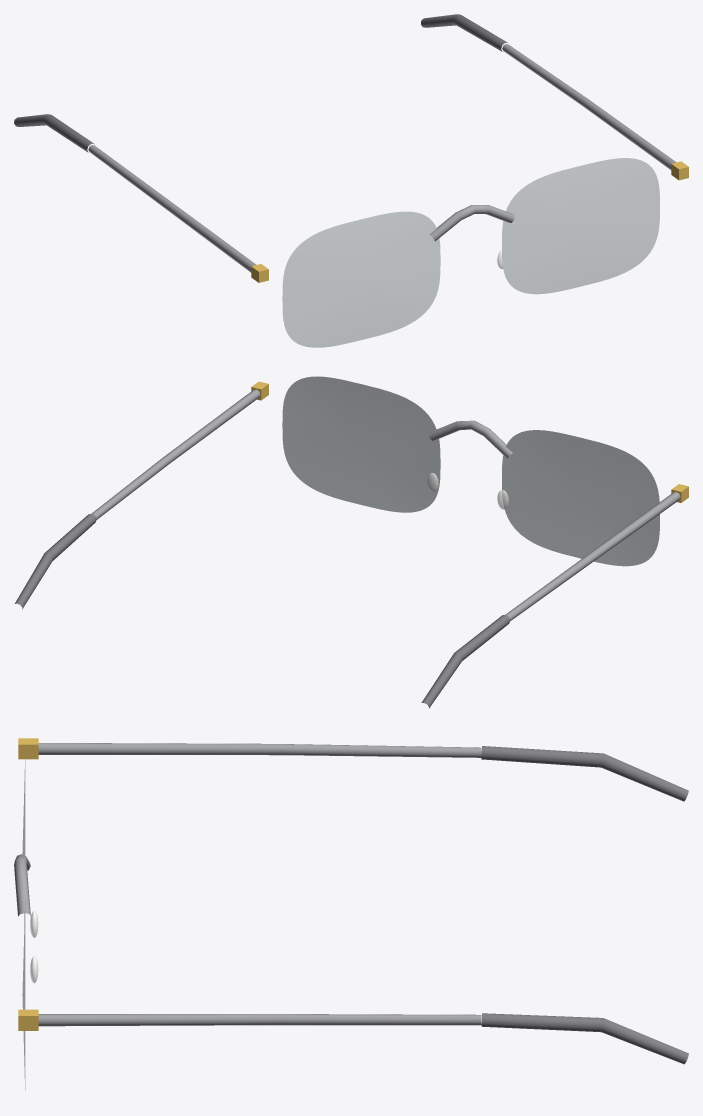
3 renders of one model, top to bottom at view 1: azimuth 30°, elevation 25°; view 2: azimuth 150°, elevation 25°; view 3: azimuth 270°, elevation 25°, orthographic. The views are drawn at different scales.
Parts seen in each view (by area): view 1: Lens_L, Lens_R, Temple_R, Temple_L, TempleTip_R, TempleTip_L, Bridge; view 2: Lens_R, Lens_L, Temple_L, Temple_R, TempleTip_L, TempleTip_R, Bridge; view 3: Temple_R, Temple_L, TempleTip_L, TempleTip_R, Bridge.
Boxes of the visible parts, left/top/right/bottom form: Lens_L: left=282, top=211, right=440, bottom=347; Lens_R: left=502, top=158, right=659, bottom=294; Temple_R: left=502, top=44, right=676, bottom=169; Temple_L: left=88, top=145, right=256, bottom=272; TempleTip_R: left=421, top=14, right=508, bottom=51; TempleTip_L: left=14, top=114, right=94, bottom=152; Bridge: left=430, top=205, right=514, bottom=241; Lens_R: left=282, top=376, right=440, bottom=512; Lens_L: left=502, top=430, right=659, bottom=566; Temple_L: left=506, top=492, right=680, bottom=620; Temple_R: left=92, top=389, right=260, bottom=519; TempleTip_L: left=421, top=614, right=510, bottom=708; TempleTip_R: left=15, top=513, right=96, bottom=609; Bridge: left=429, top=420, right=512, bottom=458; Temple_R: left=38, top=1014, right=481, bottom=1026; Temple_L: left=38, top=743, right=481, bottom=757; TempleTip_L: left=481, top=746, right=688, bottom=801; TempleTip_R: left=481, top=1013, right=688, bottom=1064; Bridge: left=14, top=854, right=30, bottom=916.
Size of the model in its own units: 2.62 by 0.7048 by 2.69.
